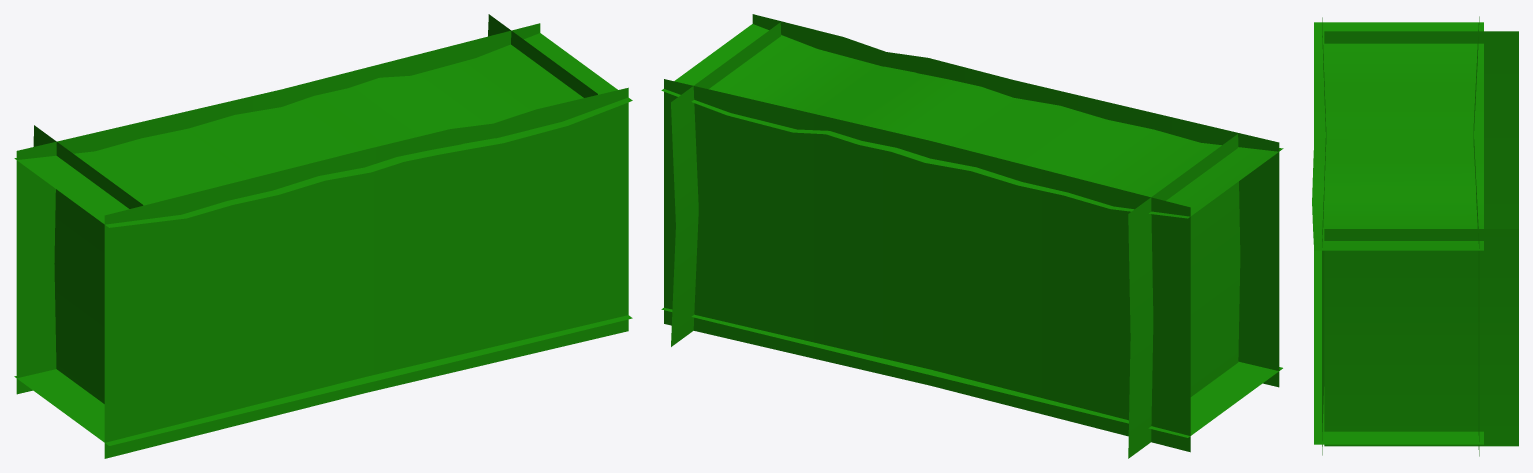
Rendered from HegFull.fbx.
3 renders of one model, left to right at view 1: azimuth 30°, elevation 25°; view 2: azimuth 150°, elevation 25°; view 3: azimuth 270°, elevation 25°, orthographic. The views are drawn at different scales.
Visible parts, largest first — view 1: Plane.003, Plane.004, Plane.001, Plane.006, Plane.005, Plane.007; view 2: Plane.001, Plane.004, Plane.003, Plane.006, Plane.007, Plane.005; view 3: Plane.007, Plane.004, Plane.006, Plane.005, Plane.003, Plane.001.
Boxes of the visible parts, bbox=[...] form: Plane.003: bbox=[104, 87, 628, 458]; Plane.004: bbox=[14, 33, 632, 227]; Plane.001: bbox=[16, 23, 540, 394]; Plane.006: bbox=[33, 125, 143, 403]; Plane.005: bbox=[14, 315, 632, 445]; Plane.007: bbox=[488, 14, 597, 97]; Plane.001: bbox=[664, 79, 1190, 452]; Plane.004: bbox=[661, 24, 1283, 218]; Plane.003: bbox=[752, 14, 1279, 387]; Plane.006: bbox=[1128, 134, 1240, 458]; Plane.007: bbox=[671, 22, 781, 346]; Plane.005: bbox=[661, 307, 1282, 437]; Plane.007: bbox=[1324, 229, 1518, 446]; Plane.004: bbox=[1312, 22, 1483, 250]; Plane.006: bbox=[1324, 31, 1518, 228]; Plane.005: bbox=[1314, 250, 1483, 444]; Plane.003: bbox=[1322, 17, 1326, 455]; Plane.001: bbox=[1473, 16, 1479, 456].
Size of the model in its own units: 910 by 405 by 349.
